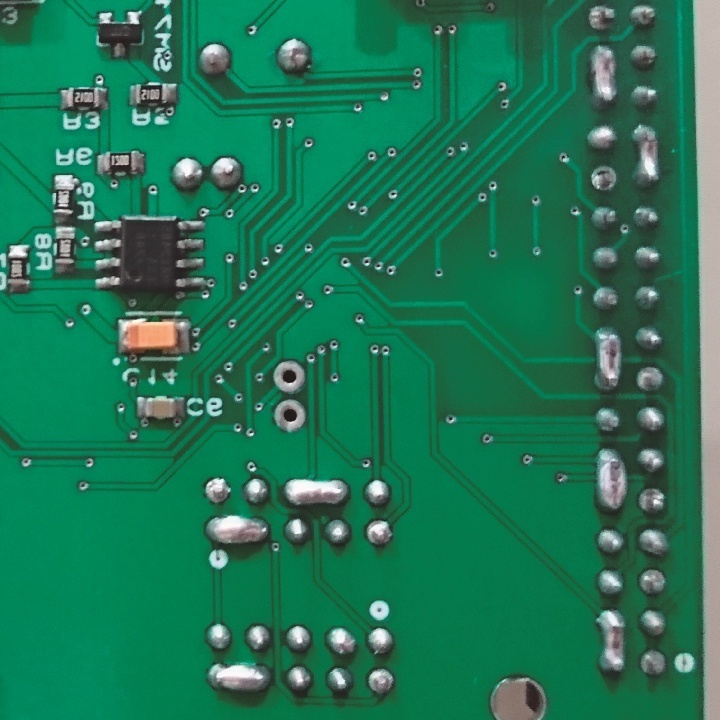F: (273, 396, 308, 433), (272, 360, 307, 395), (589, 160, 619, 197), (636, 363, 667, 397), (639, 484, 670, 515), (362, 518, 394, 548), (641, 648, 670, 678), (367, 666, 396, 695), (205, 476, 232, 507), (639, 569, 671, 595)
P: (590, 446, 630, 518), (279, 476, 350, 511), (207, 662, 276, 698), (204, 514, 274, 549), (593, 325, 625, 395), (595, 608, 627, 678), (589, 42, 617, 107), (635, 122, 661, 191)
